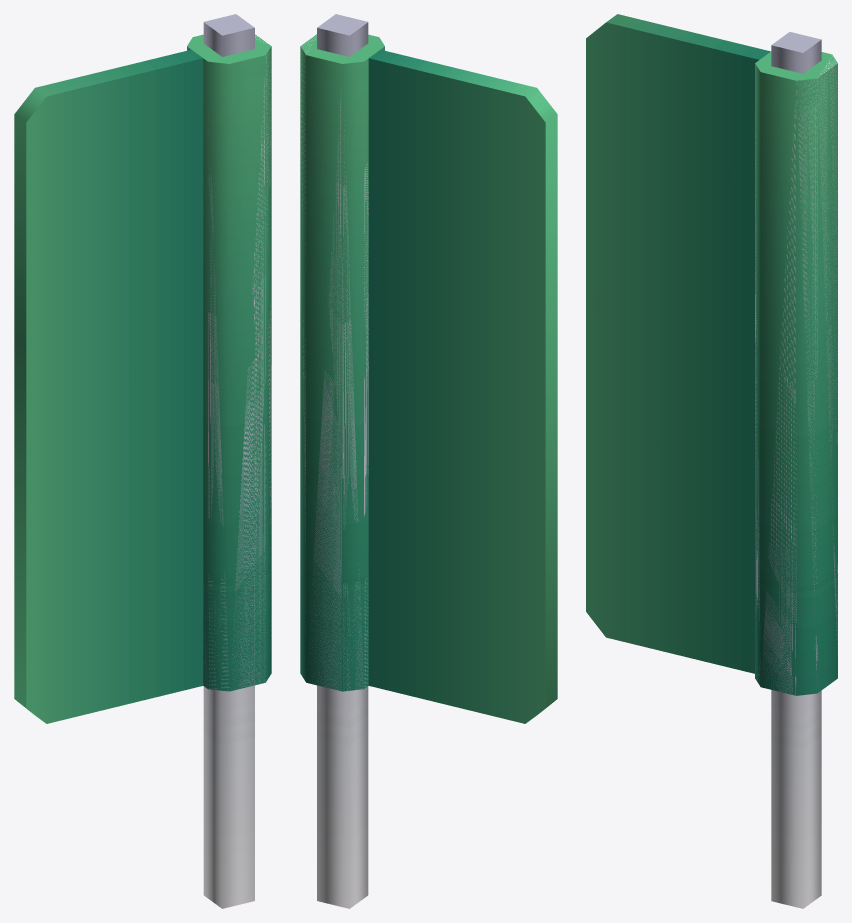
The model's file is flag-large-green.glb.
3 views of the same model, side by side, from view 1: azimuth 30°, elevation 25°; view 2: azimuth 150°, elevation 25°; view 3: azimuth 330°, elevation 25° (orthographic). The views are drawn at different scales.
Visible parts, largest first — view 1: flag-large-green; view 2: flag-large-green; view 3: flag-large-green.
Boxes of the visible parts, x1,y1,x2,y2 form: flag-large-green: (14,14,271,908); flag-large-green: (300,14,557,908); flag-large-green: (586,14,837,908).
Size of the model in its own units: 0.2955 by 1.02 by 0.0781.
Materials: 1 (1 with a texture image).
